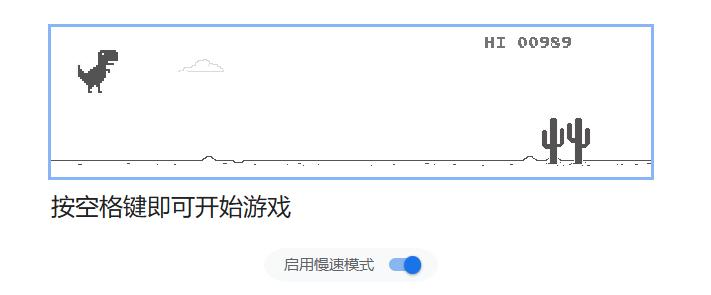cactus: (540, 117, 593, 166)
dino: (75, 49, 120, 96)
